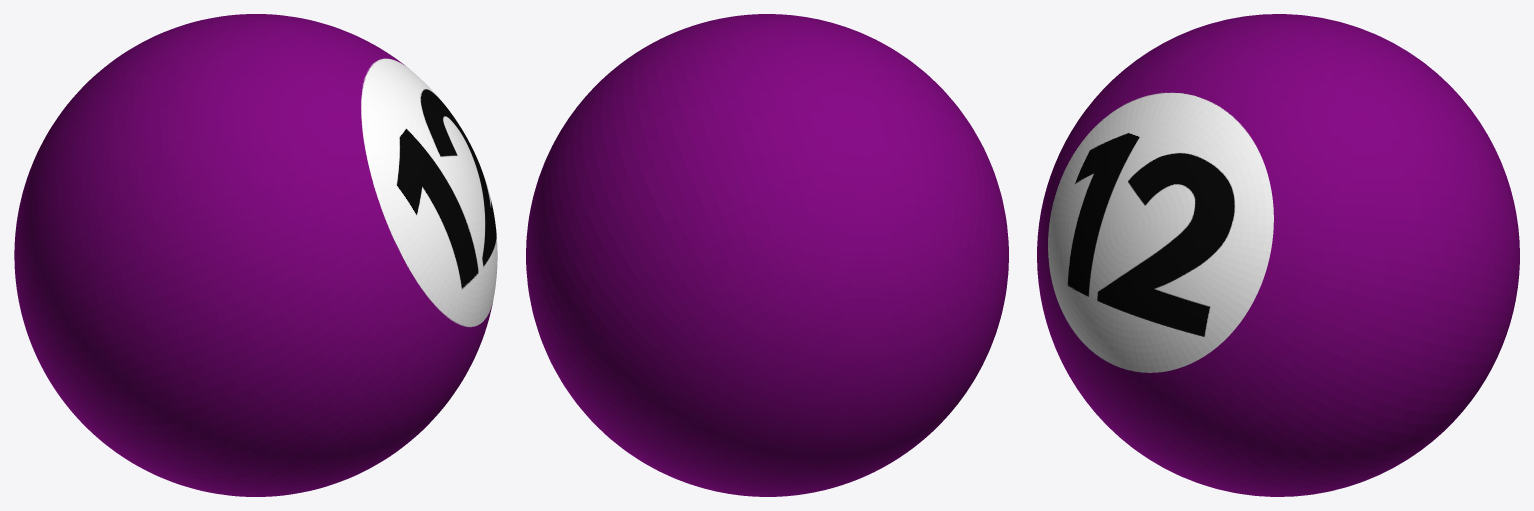
3 views of the same model, side by side, from view 1: azimuth 30°, elevation 25°; view 2: azimuth 150°, elevation 25°; view 3: azimuth 270°, elevation 25° (orthographic).
Visible parts, largest first — view 1: Sphere; view 2: Sphere; view 3: Sphere.
Boxes of the visible parts, bbox=[...] form: Sphere: bbox=[14, 14, 497, 496]; Sphere: bbox=[526, 14, 1008, 496]; Sphere: bbox=[1037, 14, 1519, 496].
Bounding box in the file's own units: 3.7 × 3.7 × 3.7.
1 material, 1 textured.
